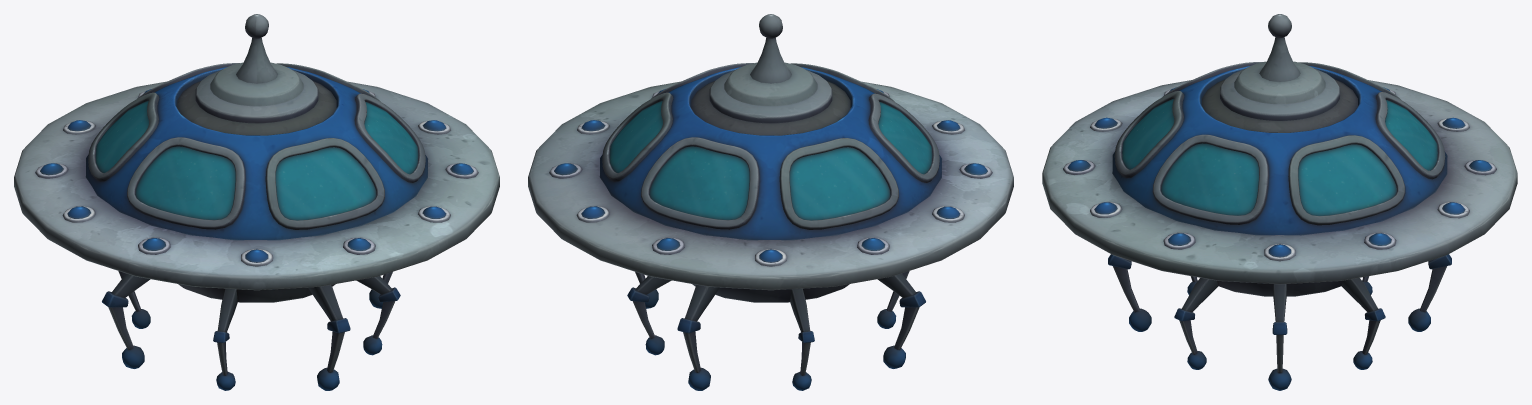
The model's file is Ovni_Blue.fbx.
The picture shows the model from 3 angles, left to right: view 1: azimuth 30°, elevation 25°; view 2: azimuth 150°, elevation 25°; view 3: azimuth 270°, elevation 25°; orthographic projection. The views are drawn at different scales.
Visible parts, largest first — view 1: Ovni_Blue_Head, Ovni_Blue_Disc, Ovni_Blue; view 2: Ovni_Blue_Head, Ovni_Blue_Disc, Ovni_Blue; view 3: Ovni_Blue_Head, Ovni_Blue_Disc, Ovni_Blue.
Boxes of the visible parts, left/top/right/bottom form: Ovni_Blue_Head: left=85, top=14, right=428, bottom=240; Ovni_Blue_Disc: left=14, top=81, right=499, bottom=290; Ovni_Blue: left=102, top=271, right=400, bottom=390; Ovni_Blue_Head: left=599, top=14, right=942, bottom=240; Ovni_Blue_Disc: left=528, top=81, right=1013, bottom=290; Ovni_Blue: left=627, top=271, right=925, bottom=390; Ovni_Blue_Head: left=1112, top=14, right=1447, bottom=235; Ovni_Blue_Disc: left=1042, top=80, right=1517, bottom=284; Ovni_Blue: left=1108, top=254, right=1451, bottom=390.
Size of the model in its own units: 1002 by 742 by 1002.
